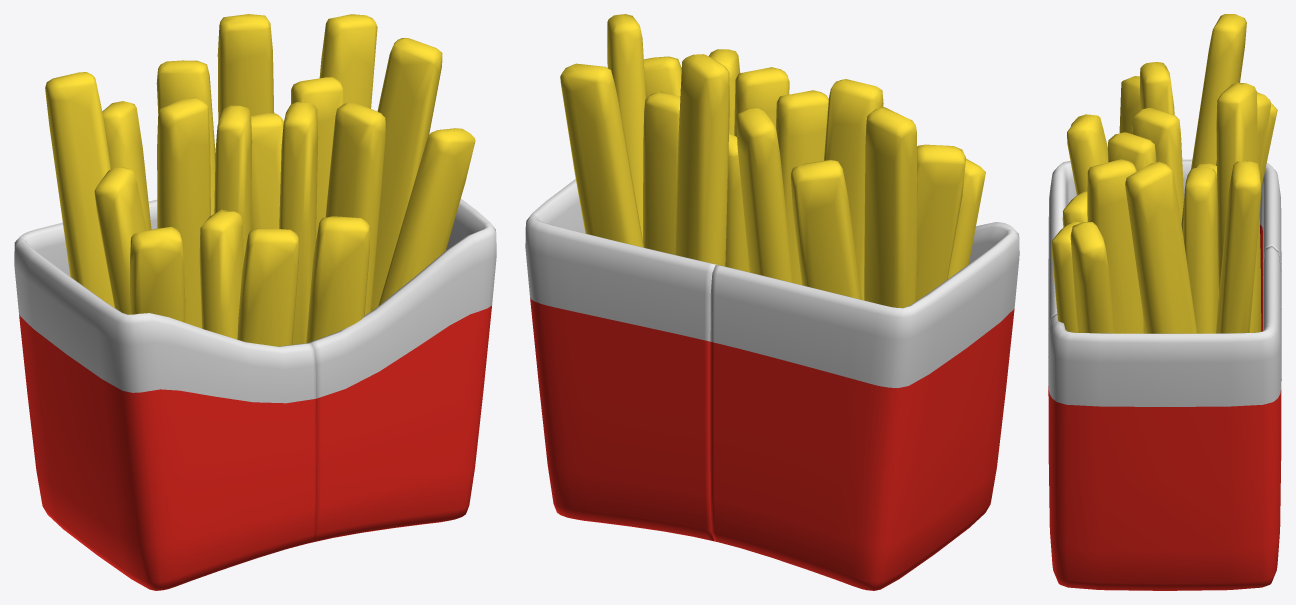
The model's file is SM_Fries_02a.fbx.
3 renders of one model, left to right at view 1: azimuth 30°, elevation 25°; view 2: azimuth 150°, elevation 25°; view 3: azimuth 270°, elevation 25°, orthographic. The views are drawn at different scales.
Parts seen in each view (by area): view 1: Fries_02, Fries_01; view 2: Fries_02, Fries_01; view 3: Fries_01, Fries_02.
Part boxes in pixels (bbox=[...]): Fries_02: bbox=[14, 60, 316, 590]; Fries_01: bbox=[217, 14, 496, 542]; Fries_02: bbox=[710, 79, 1019, 590]; Fries_01: bbox=[525, 14, 789, 541]; Fries_01: bbox=[1048, 82, 1281, 590]; Fries_02: bbox=[1048, 14, 1281, 357].
Bounding box in the file's own units: 47.96 × 55.75 × 26.35.
